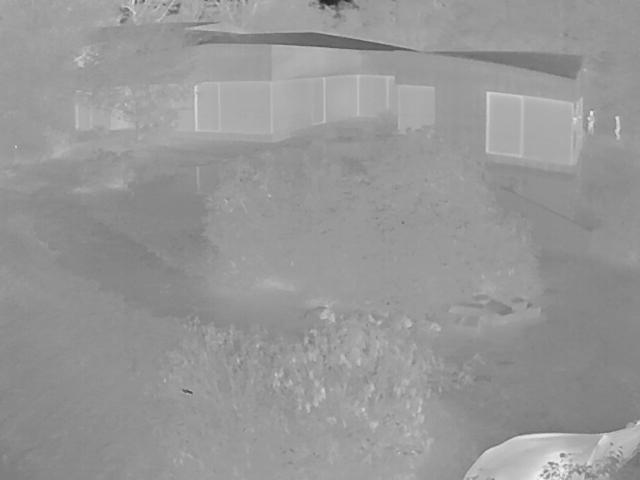person: (587, 109, 598, 135), (614, 114, 623, 144)
